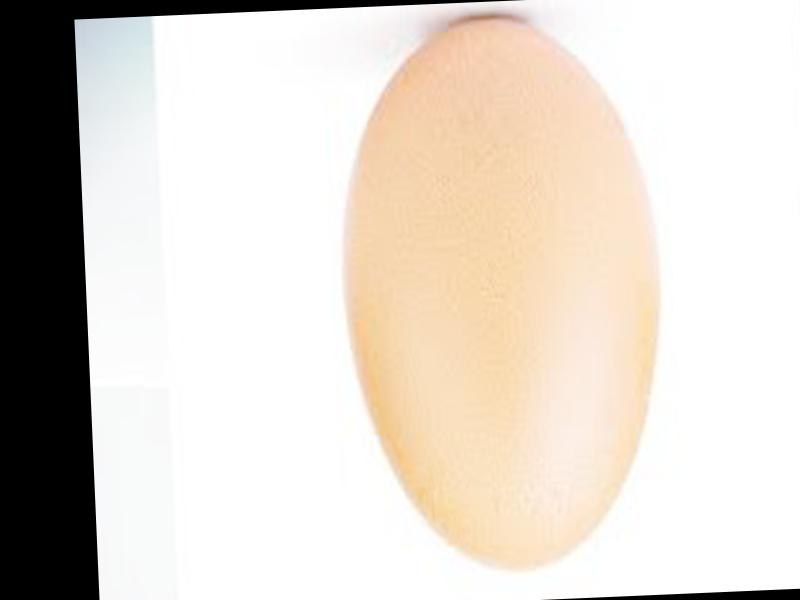Eggs: (333, 12, 671, 575)
